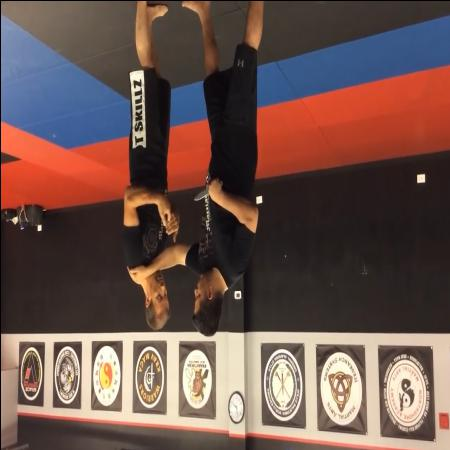long weapon: (192, 174, 222, 204)
